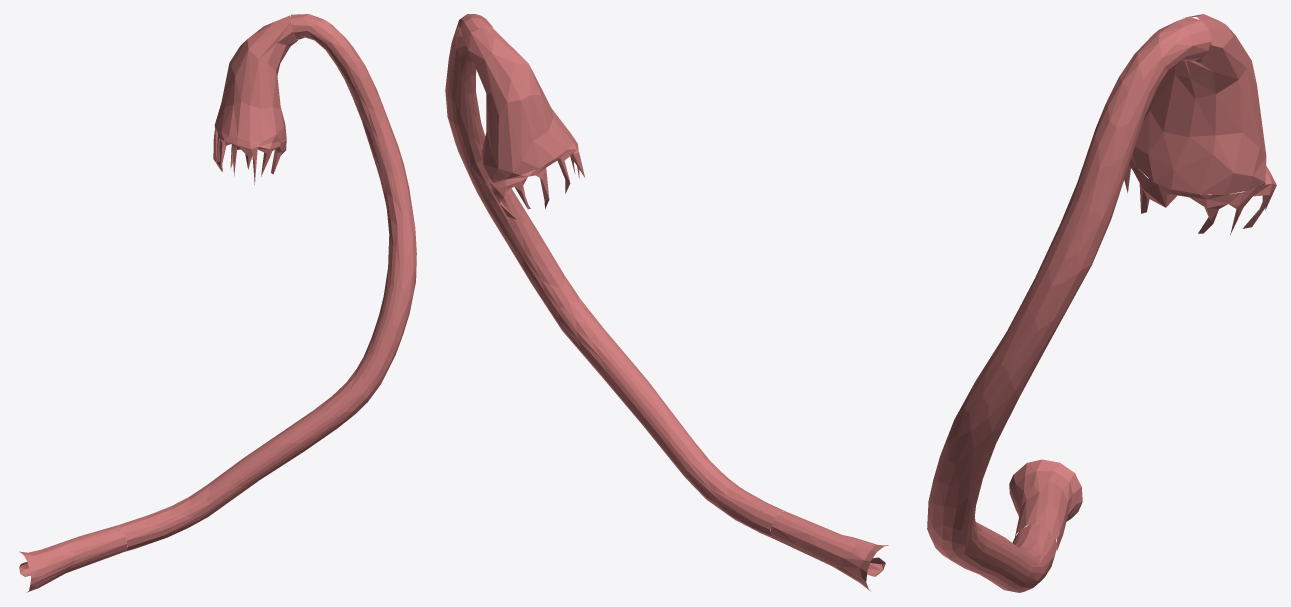
File: VH_F_Fallopian_Tube_L_0.1.glb
3 views of the same model, side by side, from view 1: azimuth 30°, elevation 25°; view 2: azimuth 150°, elevation 25°; view 3: azimuth 270°, elevation 25° (orthographic). The views are drawn at different scales.
Visible parts, largest first — view 1: VH_F_ampulla_of_uterine_tube_L, VH_F_uterine_tube_infundibulum_L, VH_F_isthmus_of_fallopian_tube_L, VH_F_fibria_of_uterine_tube_L; view 2: VH_F_ampulla_of_uterine_tube_L, VH_F_uterine_tube_infundibulum_L, VH_F_isthmus_of_fallopian_tube_L, VH_F_fibria_of_uterine_tube_L; view 3: VH_F_ampulla_of_uterine_tube_L, VH_F_uterine_tube_infundibulum_L, VH_F_isthmus_of_fallopian_tube_L, VH_F_fibria_of_uterine_tube_L.
Part boxes in pixels (bbox=[...]): VH_F_ampulla_of_uterine_tube_L: bbox=[118, 14, 416, 551]; VH_F_uterine_tube_infundibulum_L: bbox=[214, 15, 297, 142]; VH_F_isthmus_of_fallopian_tube_L: bbox=[19, 525, 127, 592]; VH_F_fibria_of_uterine_tube_L: bbox=[213, 127, 286, 184]; VH_F_ampulla_of_uterine_tube_L: bbox=[445, 14, 784, 538]; VH_F_uterine_tube_infundibulum_L: bbox=[464, 26, 573, 180]; VH_F_isthmus_of_fallopian_tube_L: bbox=[770, 511, 888, 591]; VH_F_fibria_of_uterine_tube_L: bbox=[486, 138, 584, 219]; VH_F_ampulla_of_uterine_tube_L: bbox=[927, 17, 1211, 592]; VH_F_uterine_tube_infundibulum_L: bbox=[1131, 14, 1266, 195]; VH_F_isthmus_of_fallopian_tube_L: bbox=[1009, 459, 1082, 550]; VH_F_fibria_of_uterine_tube_L: bbox=[1124, 159, 1276, 234].
Bounding box in the file's own units: 0.0386 × 0.0445 × 0.0187.
